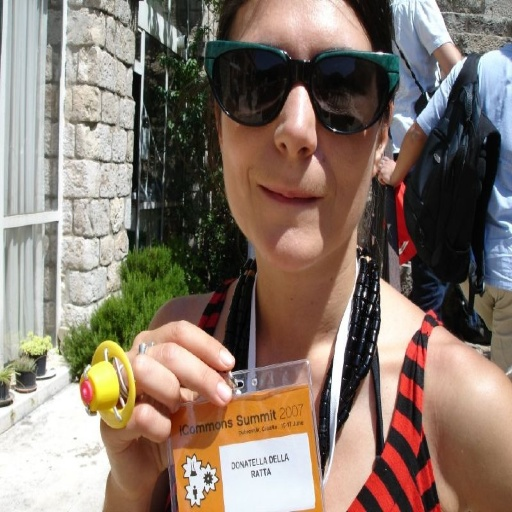hand: (85, 312, 230, 461), (375, 151, 397, 190)
